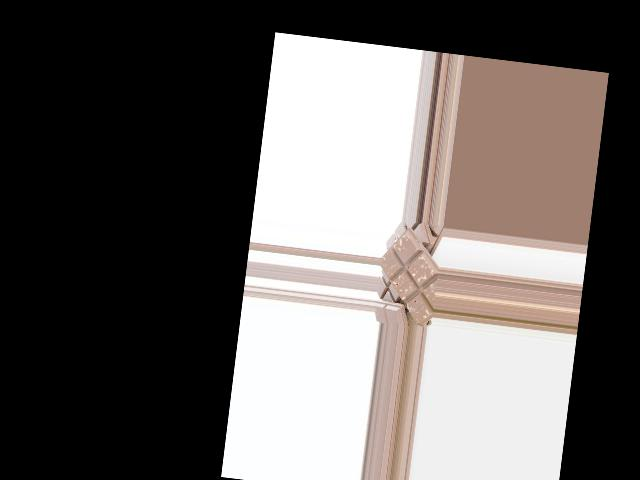chocolate: (374, 231, 443, 325)
